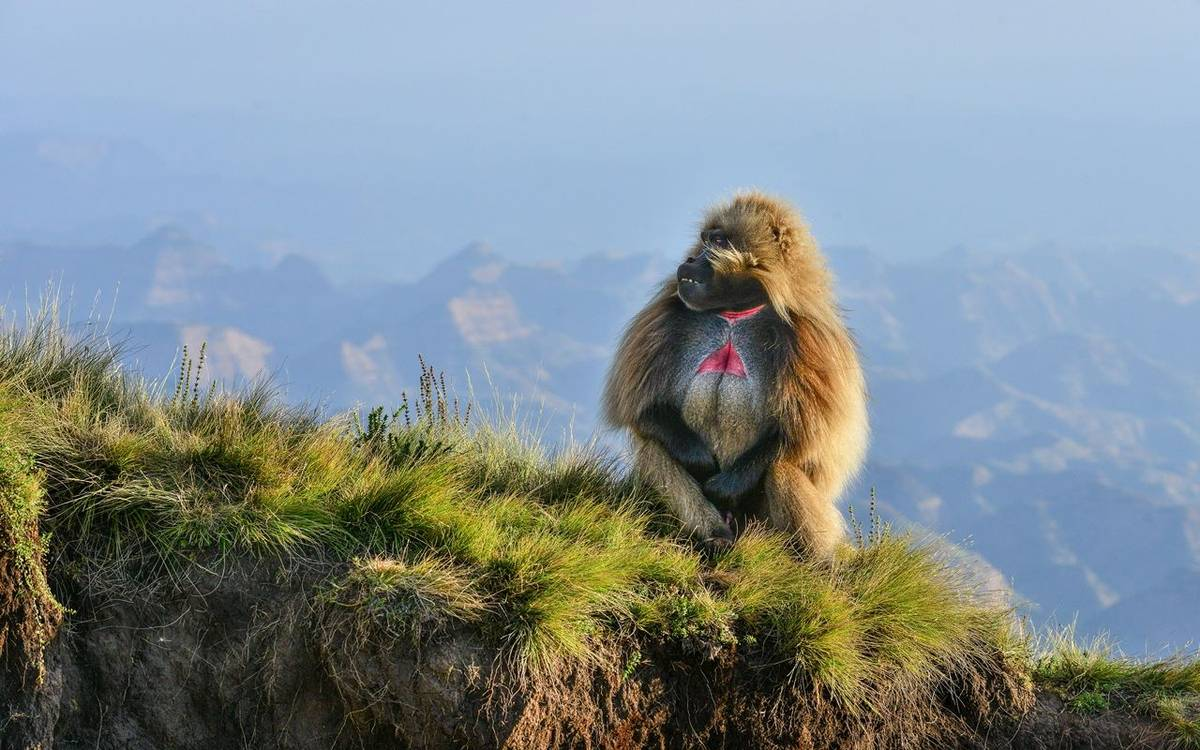Gelada: (590, 191, 893, 546)
